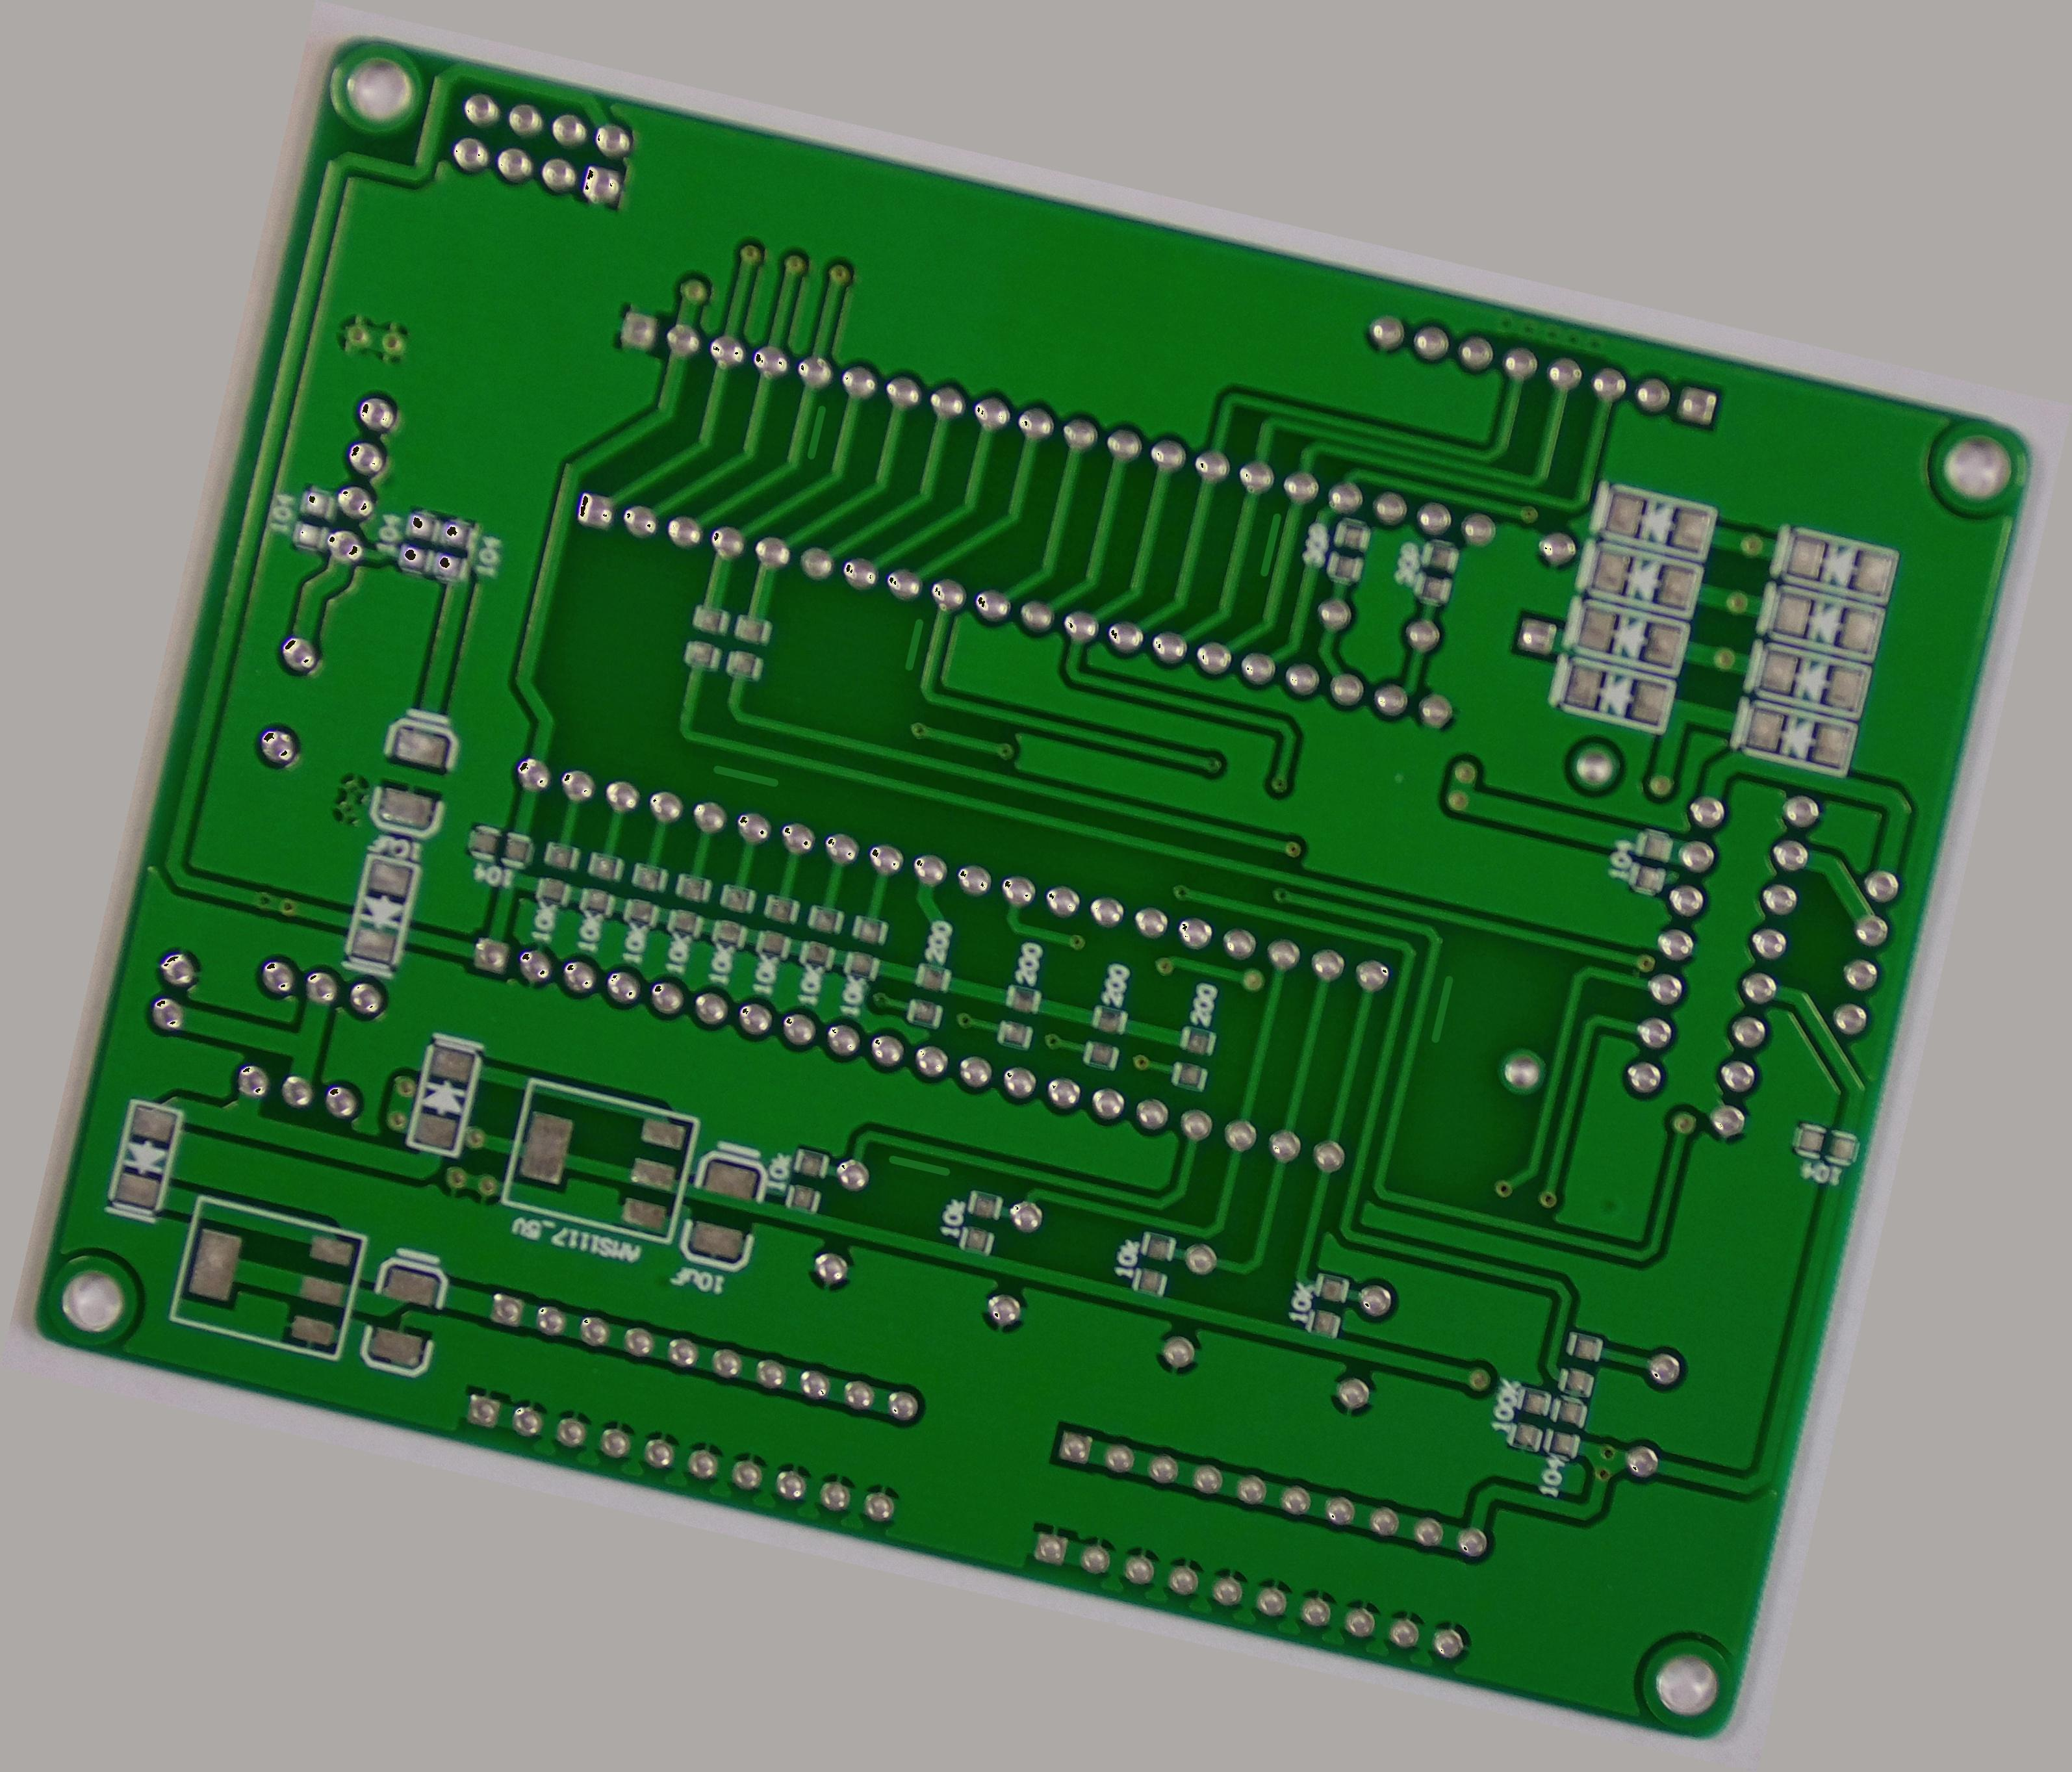spurious_copper: (701, 745, 787, 803), (1418, 965, 1466, 1051), (877, 1139, 960, 1188), (887, 603, 937, 680), (1246, 503, 1293, 582), (794, 396, 840, 469)
